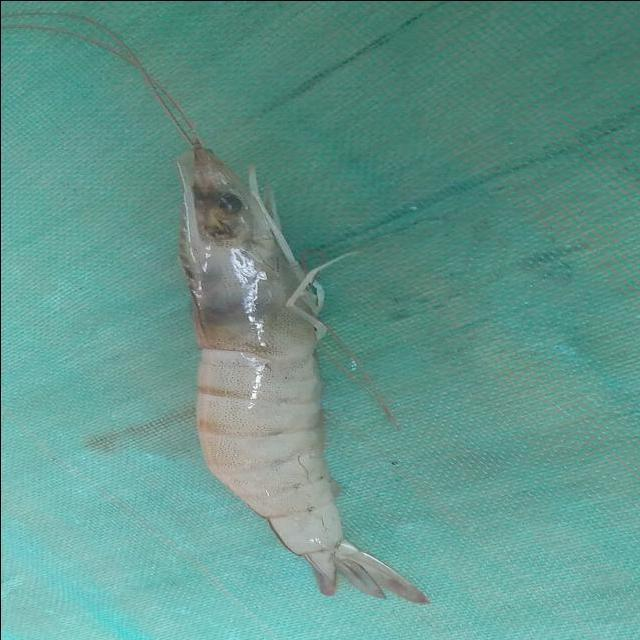shrimp: (178, 142, 429, 604)
